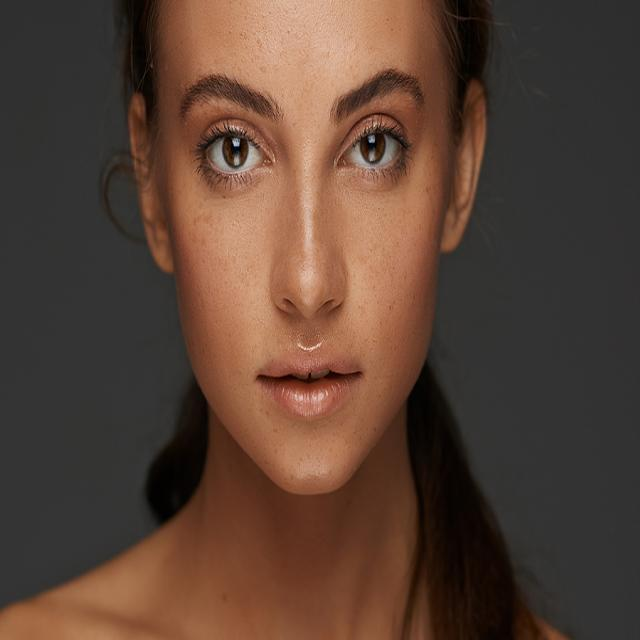earlobe: (128, 92, 177, 274), (440, 78, 487, 255)
